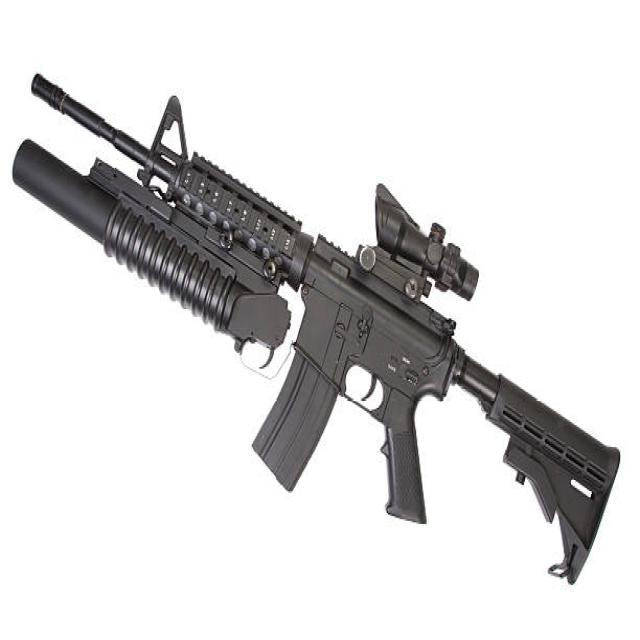rifle: (5, 63, 629, 603)
